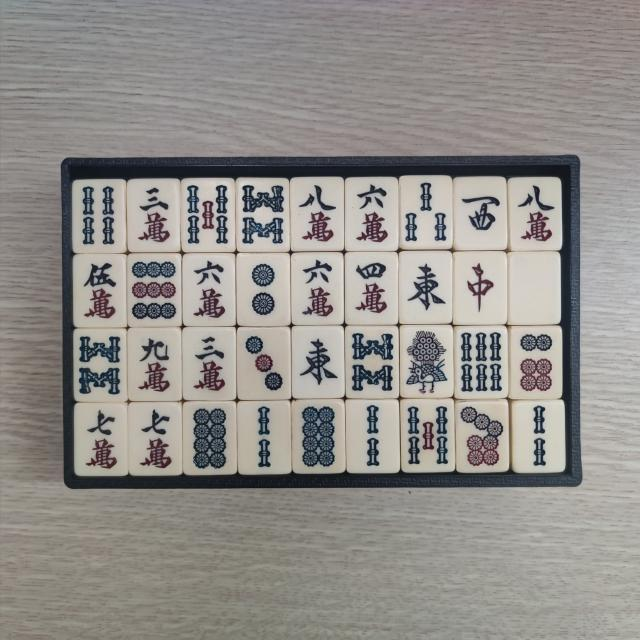hdr: (458, 255, 500, 320)
hdw: (514, 258, 555, 320)
hwe: (296, 331, 341, 394), (404, 254, 448, 318)
hww: (457, 182, 502, 246)
sb1: (404, 329, 450, 396)
sb2: (244, 404, 288, 471), (352, 404, 396, 470), (518, 404, 560, 471)
sb3: (404, 182, 450, 249)
sb4: (77, 184, 121, 249)
sb5: (187, 183, 232, 250), (405, 402, 450, 468)
sb6: (460, 330, 506, 394)
sb8: (241, 181, 288, 248), (78, 332, 124, 398), (348, 330, 394, 394)
sc3: (188, 332, 232, 397), (134, 182, 176, 248)
sc4: (350, 257, 394, 320)
sc5: (80, 259, 123, 324)
sc6: (188, 258, 231, 324), (350, 182, 393, 247), (296, 258, 340, 320)
sc7: (80, 406, 122, 474), (136, 406, 178, 472)
sc8: (294, 182, 340, 246), (513, 181, 558, 246)
sc9: (134, 332, 177, 398)
sd2: (242, 258, 288, 322)
sd3: (243, 330, 288, 396)
sd6: (516, 331, 558, 395)
sd7: (459, 403, 505, 468)
sd8: (189, 406, 232, 472), (298, 404, 340, 469)
sd9: (130, 258, 176, 322)
